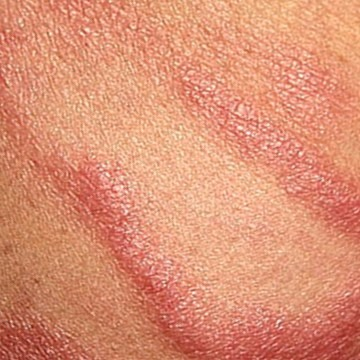Leprosy: (56, 139, 358, 359), (0, 1, 359, 141), (0, 280, 89, 359)
